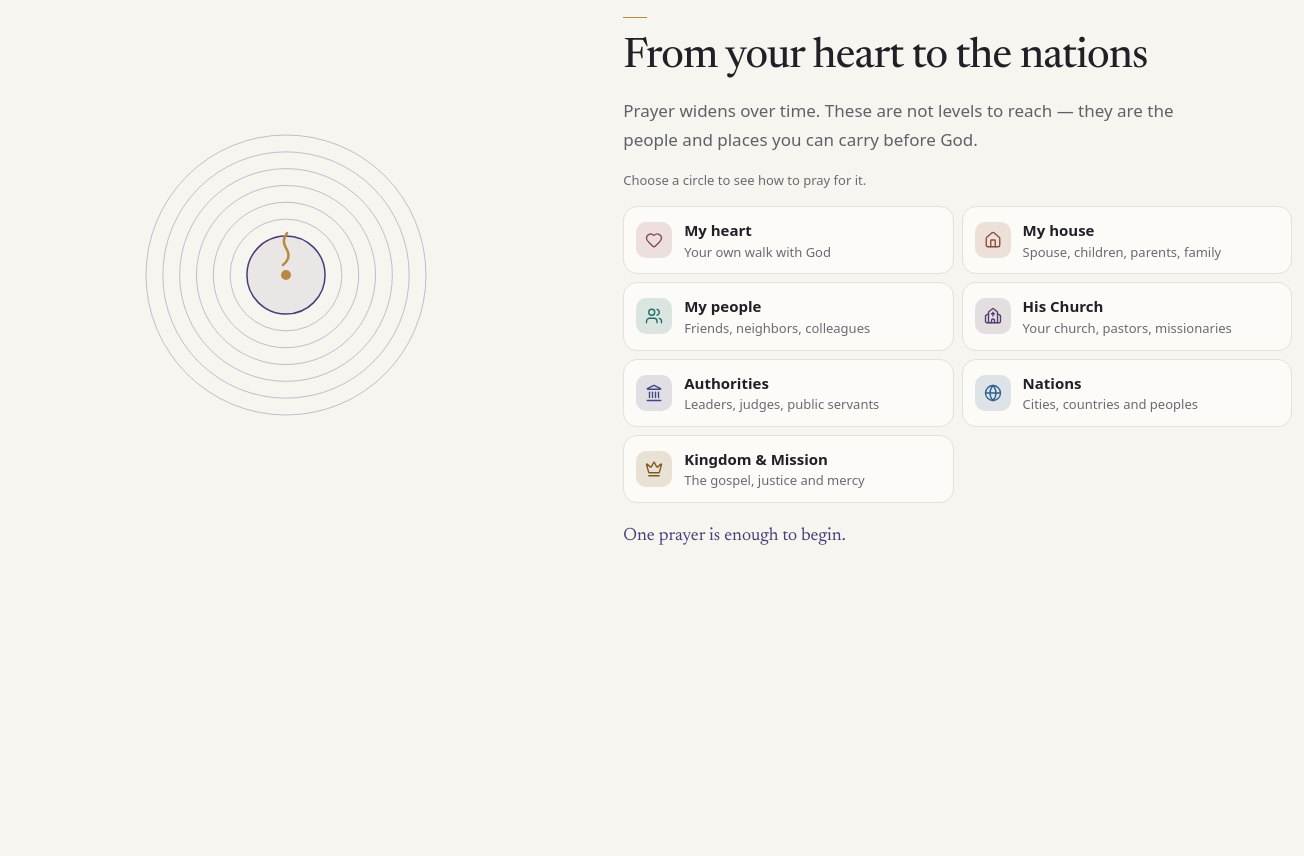
Test case: LandingCircles › swaps at once with reduced motion
What coordinates should you click on to do the following:
click the button "My house Spouse, children, parents, family"
I would click on:
 (1127, 240)
Its box is [962, 206, 1292, 274].
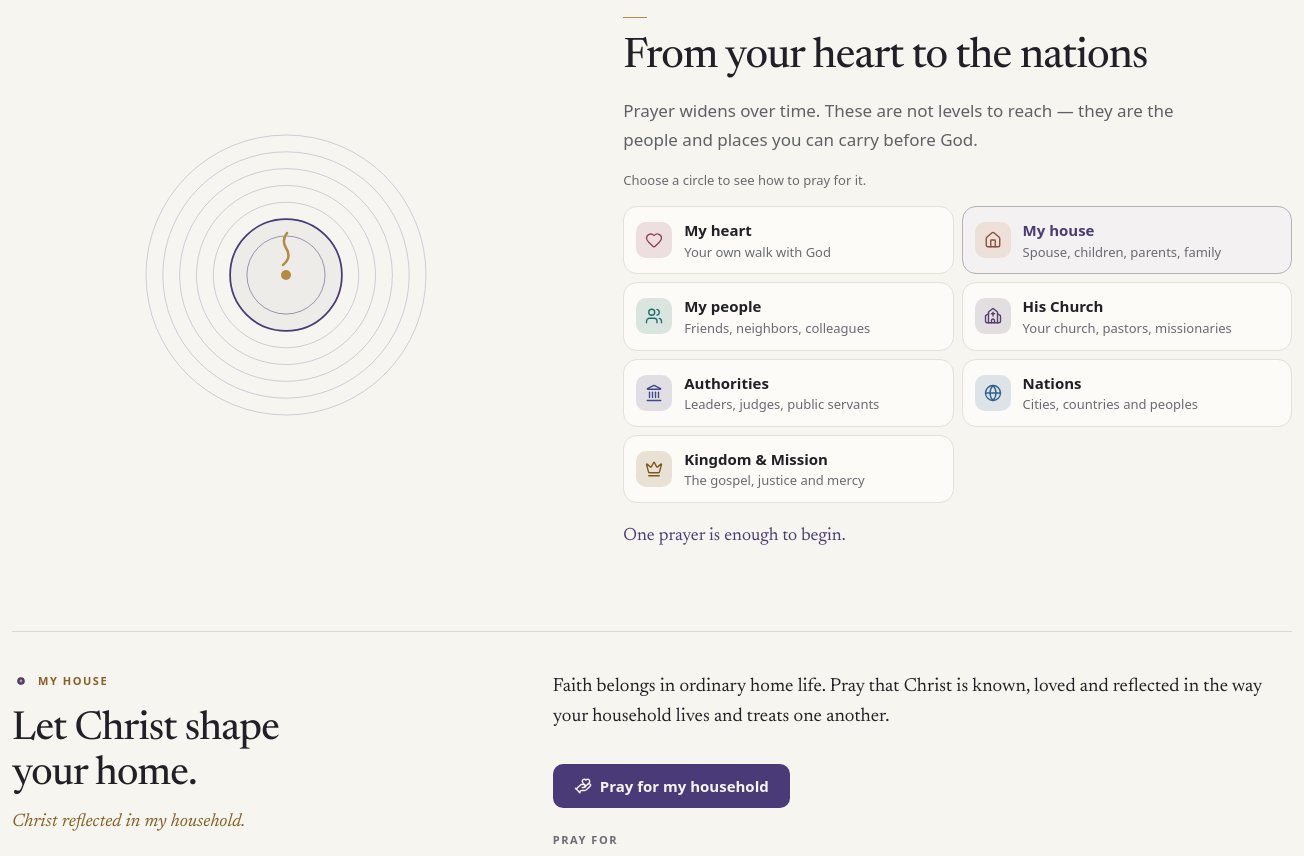
What coordinates should you click on to do the following:
click the button "My people Friends, neighbors, colleagues"
I would click on:
 (788, 316)
Its box is [623, 282, 954, 350].
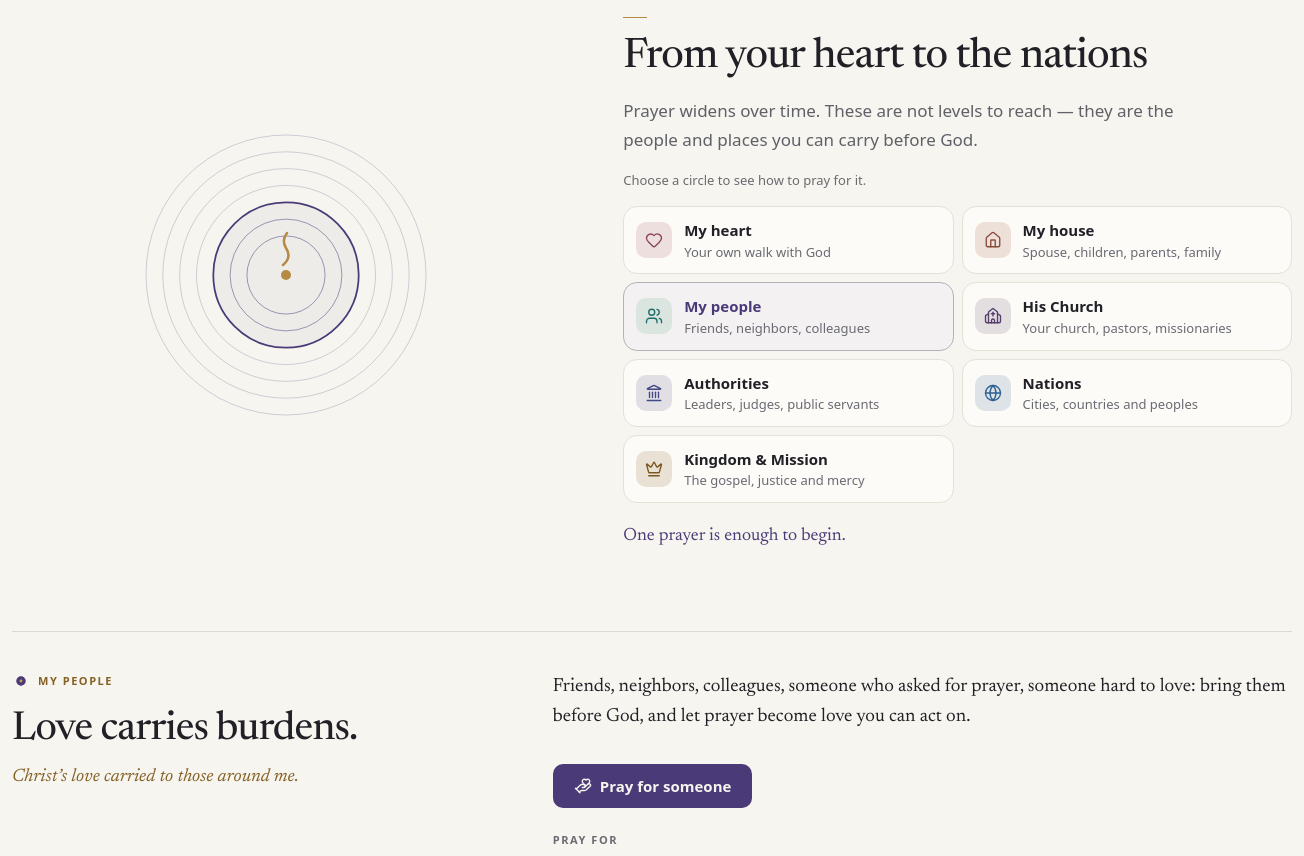
Check: the heading "Love carries burdens." is shown, box [12, 710, 357, 750]
